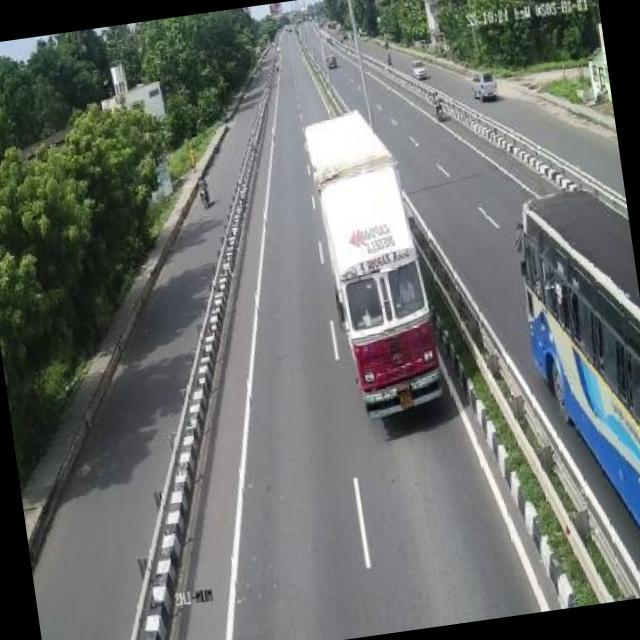car: (471, 65, 500, 102)
